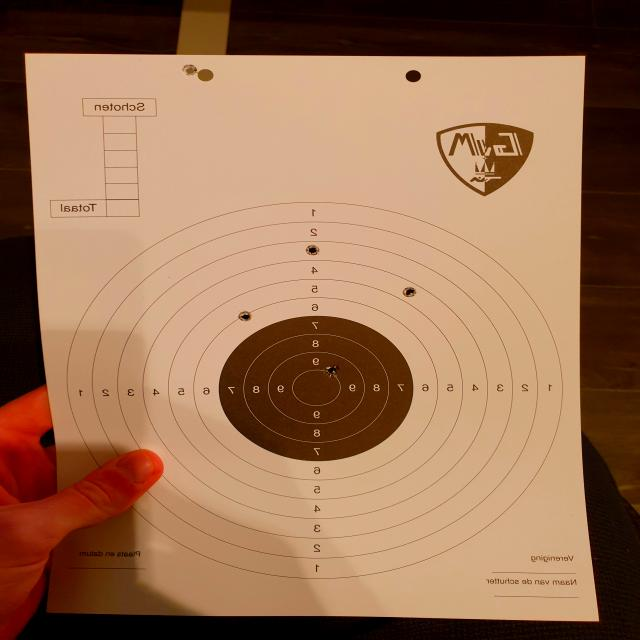0: (182, 64, 198, 76)
10: (322, 364, 340, 378)
3: (305, 244, 321, 256)
4: (401, 286, 418, 298)
6: (237, 310, 253, 322)
Target: (64, 199, 566, 582)
black_contour: (218, 316, 414, 461)
